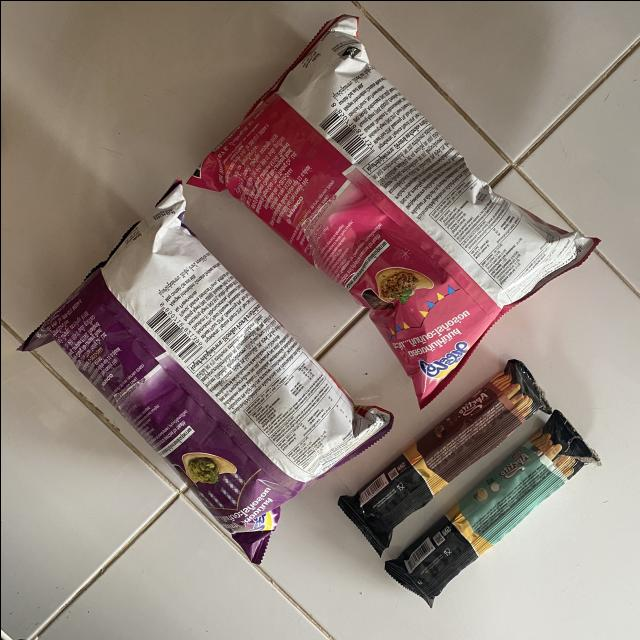plastik: (187, 15, 597, 408), (19, 181, 392, 564), (384, 410, 598, 606), (337, 359, 551, 555)
